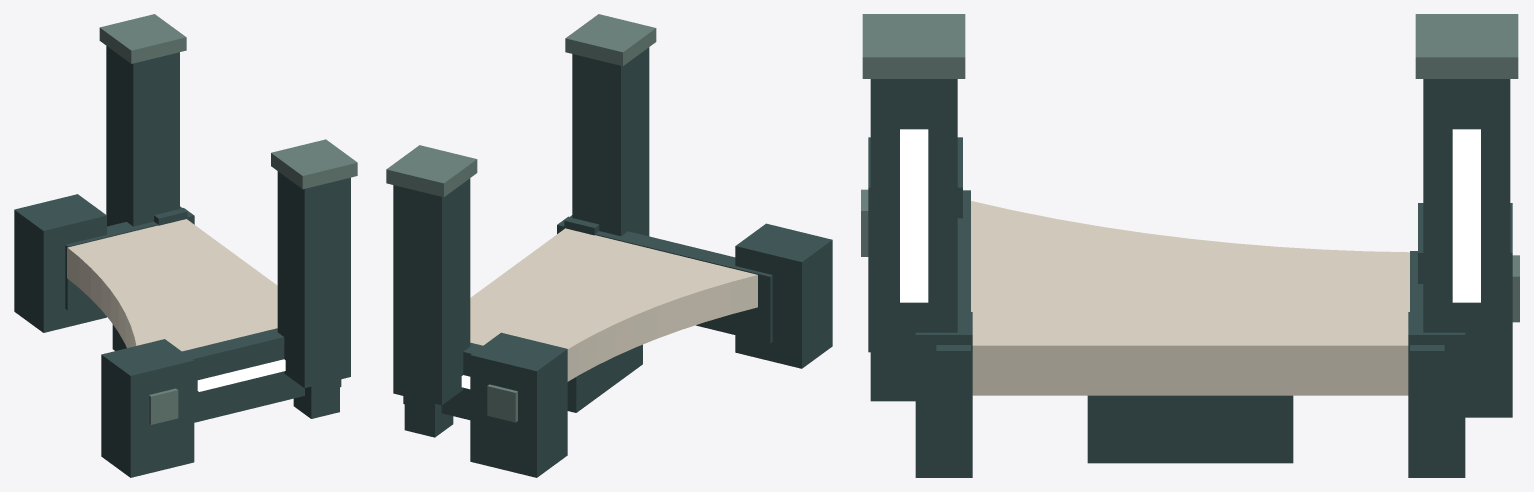
The model's file is Pier_Angled_15_Switch_lab.glb.
3 renders of one model, left to right at view 1: azimuth 30°, elevation 25°; view 2: azimuth 150°, elevation 25°; view 3: azimuth 270°, elevation 25°, orthographic. The views are drawn at different scales.
Parts seen in each view (by area): view 1: Pier_Angled_15_Switch; view 2: Pier_Angled_15_Switch; view 3: Pier_Angled_15_Switch.
Boxes of the visible parts, x1=… form: Pier_Angled_15_Switch: x1=14, y1=14, x2=357, y2=477; Pier_Angled_15_Switch: x1=386, y1=14, x2=832, y2=477; Pier_Angled_15_Switch: x1=861, y1=14, x2=1519, y2=477.
Size of the model in its own units: 2.74 by 2.95 by 4.17.
